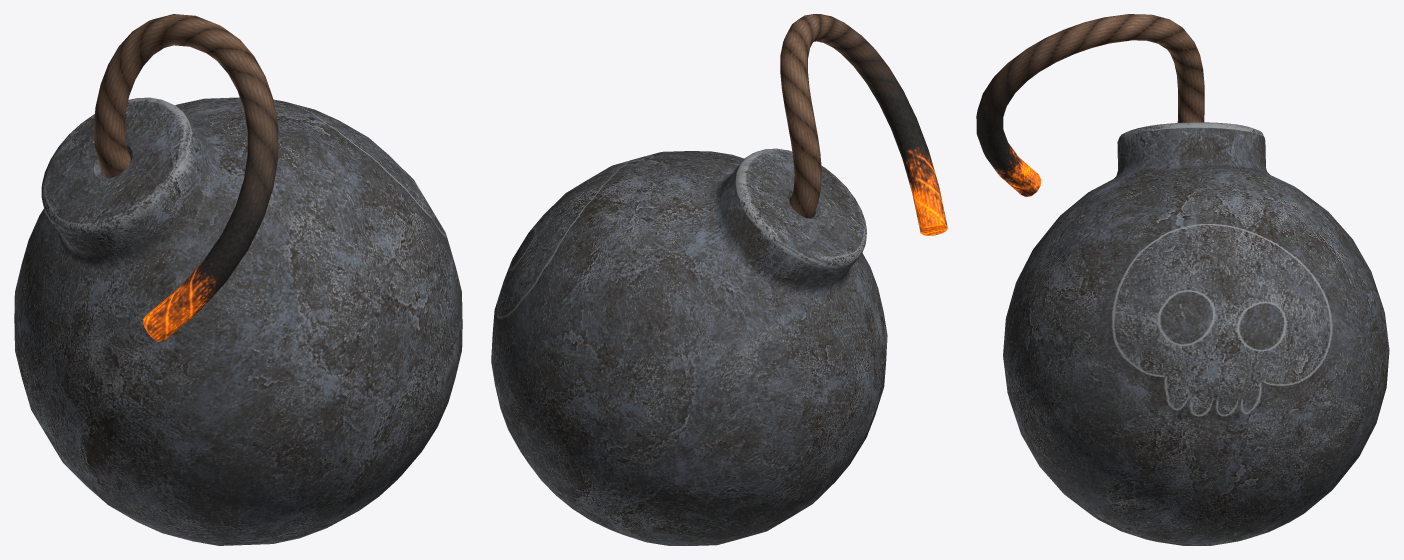
Rendered from comical_bomb.glb.
3 views of the same model, side by side, from view 1: azimuth 30°, elevation 25°; view 2: azimuth 150°, elevation 25°; view 3: azimuth 270°, elevation 25° (orthographic). The views are drawn at different scales.
Parts seen in each view (by area): view 1: BezierCurve.001; view 2: BezierCurve.001; view 3: BezierCurve.001.
Boxes of the visible parts, bbox=[...] form: BezierCurve.001: bbox=[14, 14, 462, 545]; BezierCurve.001: bbox=[491, 14, 947, 545]; BezierCurve.001: bbox=[976, 14, 1389, 545].
Size of the model in its own units: 2 by 2.73 by 2.13.
Materials: 1 (1 with a texture image).
